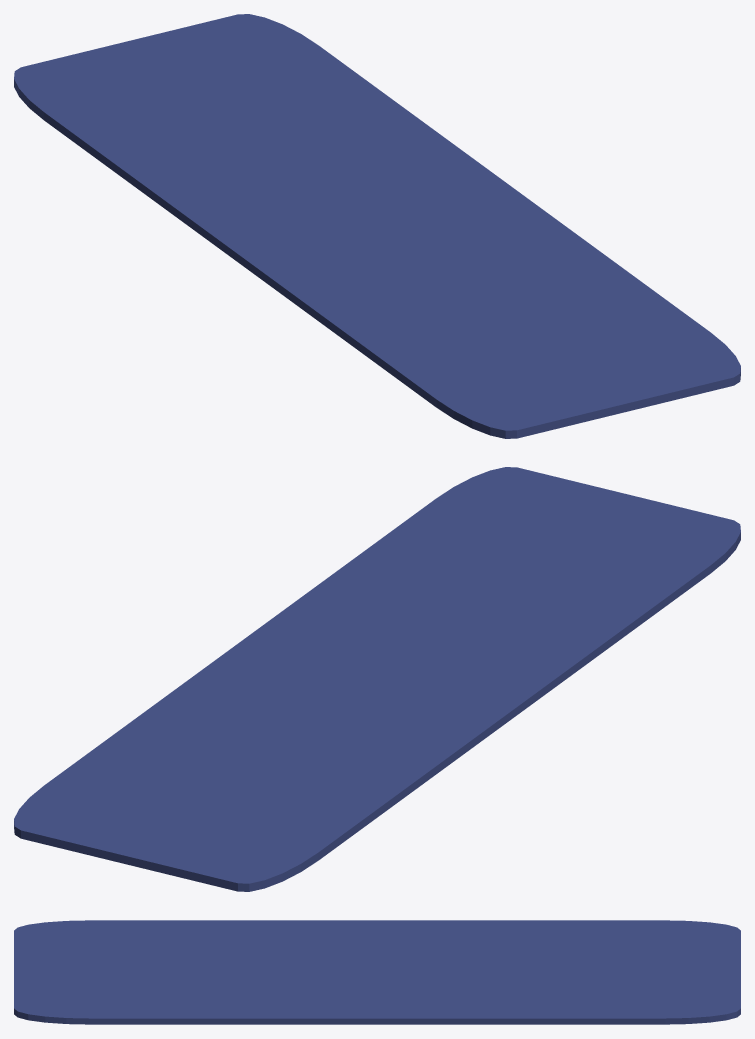
Rendered from ComputerMousepad.glb.
The picture shows the model from 3 angles, top to bottom: view 1: azimuth 30°, elevation 25°; view 2: azimuth 150°, elevation 25°; view 3: azimuth 270°, elevation 25°; orthographic projection. The views are drawn at different scales.
Visible parts, largest first — view 1: Mousepad; view 2: Mousepad; view 3: Mousepad.
Boxes of the visible parts, <box> form: Mousepad: <box>14,14,740,438</box>; Mousepad: <box>14,467,740,891</box>; Mousepad: <box>14,920,740,1024</box>.
Size of the model in its own units: 0.9162 by 0.0264 by 2.87.
